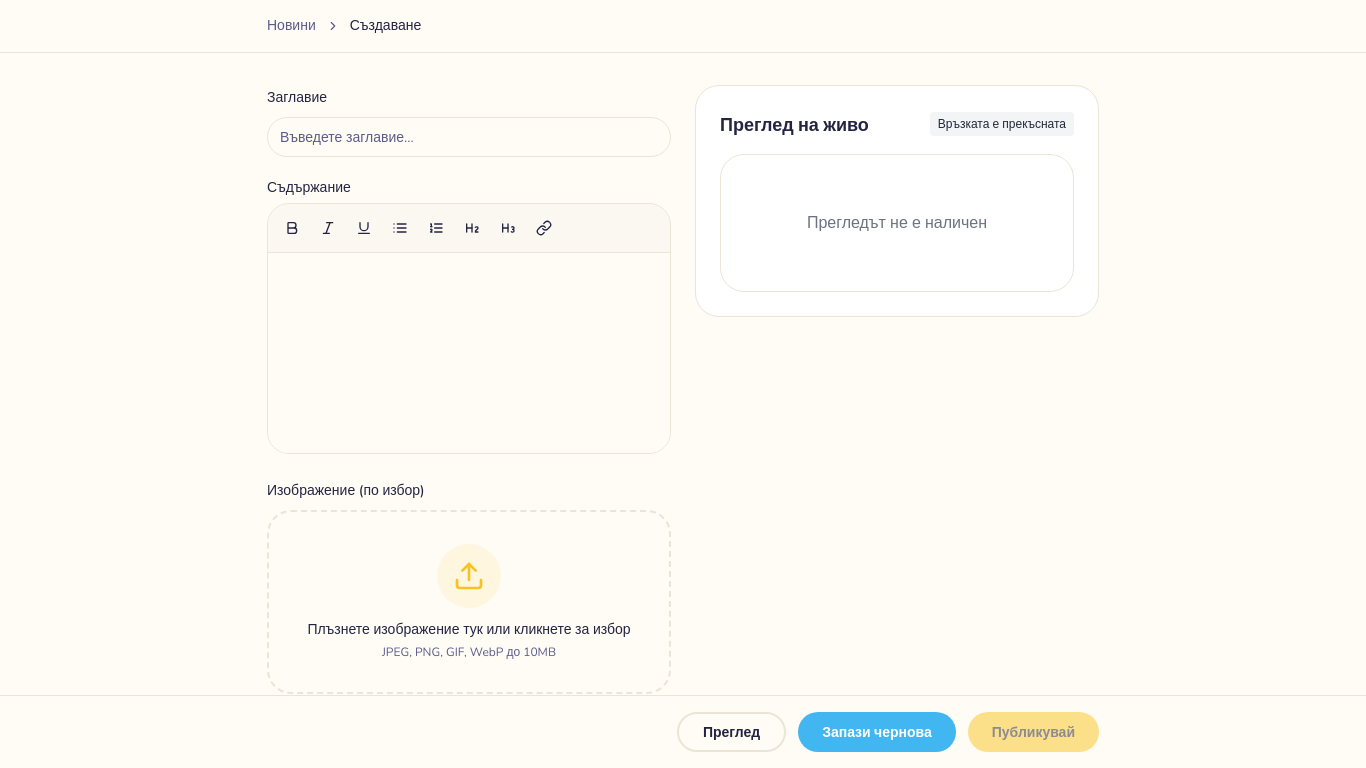
Scenario: NewsCreate › Auto-Save Functionality › does not show beforeunload warning after successful save
Note: Type and trigger save
In the field labelled "Заглавие": (469, 137) [267,117,671,157], type "Test"
Wait 10000 ms
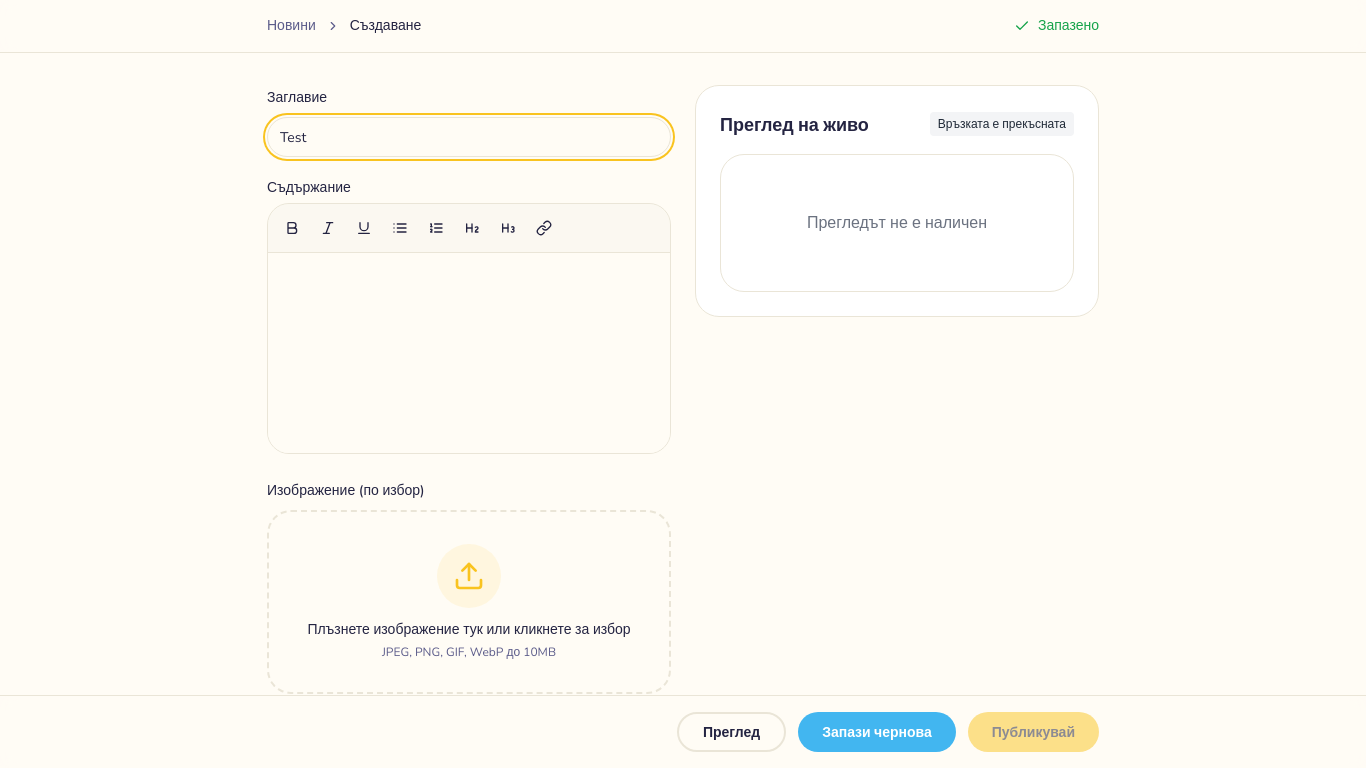
Result: the text "Запазено" is shown at [1038,16,1099,36]
